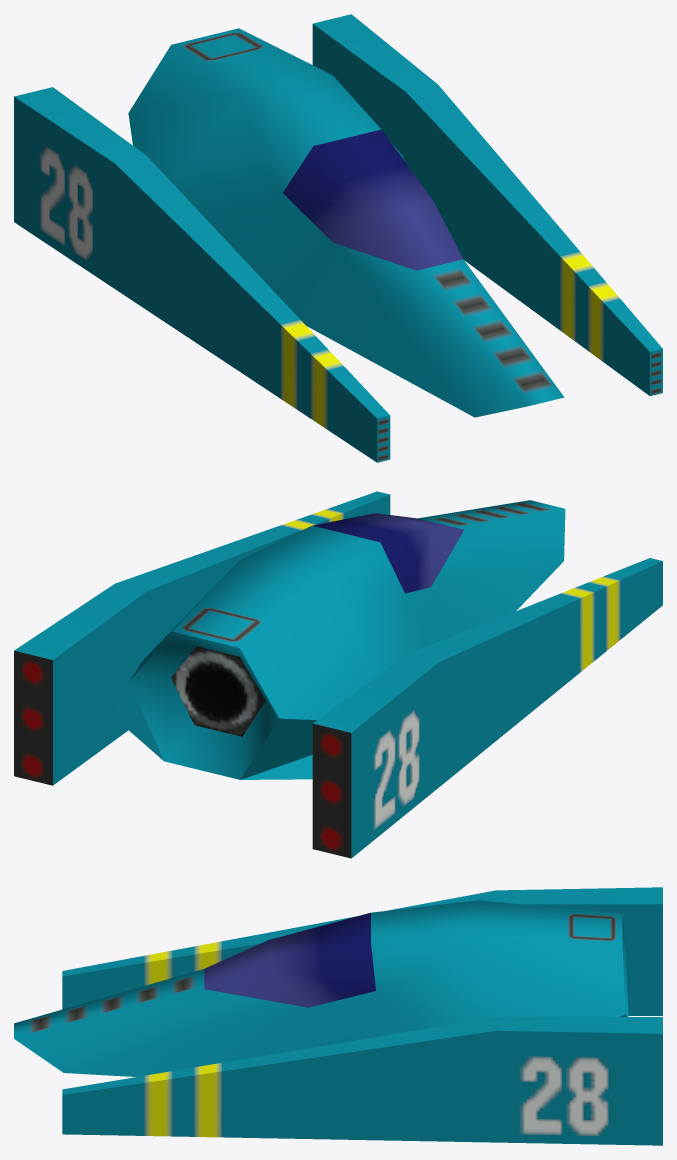
3 renders of one model, top to bottom at view 1: azimuth 30°, elevation 25°; view 2: azimuth 150°, elevation 25°; view 3: azimuth 270°, elevation 25°, orthographic. The views are drawn at different scales.
Visible parts, largest first — view 1: Joint_0_Object_0; view 2: Joint_0_Object_0; view 3: Joint_0_Object_0.
Boxes of the visible parts, x1,y1,x2,y2 form: Joint_0_Object_0: [14, 14, 662, 462]; Joint_0_Object_0: [14, 491, 662, 858]; Joint_0_Object_0: [14, 887, 662, 1145].
Size of the model in its own units: 31.19 by 15.06 by 58.36.
1 material, 1 textured.
